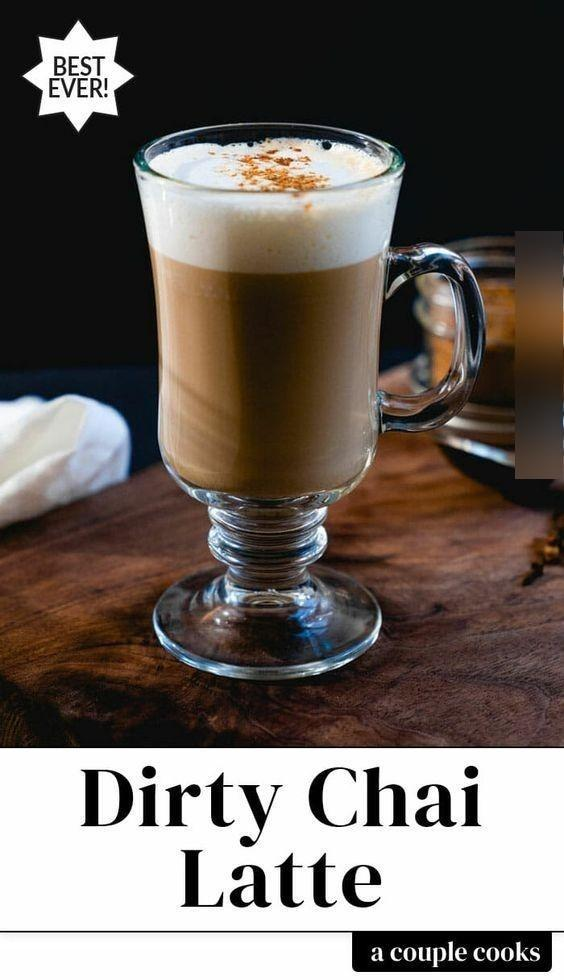glass-mug: (125, 118, 489, 679)
